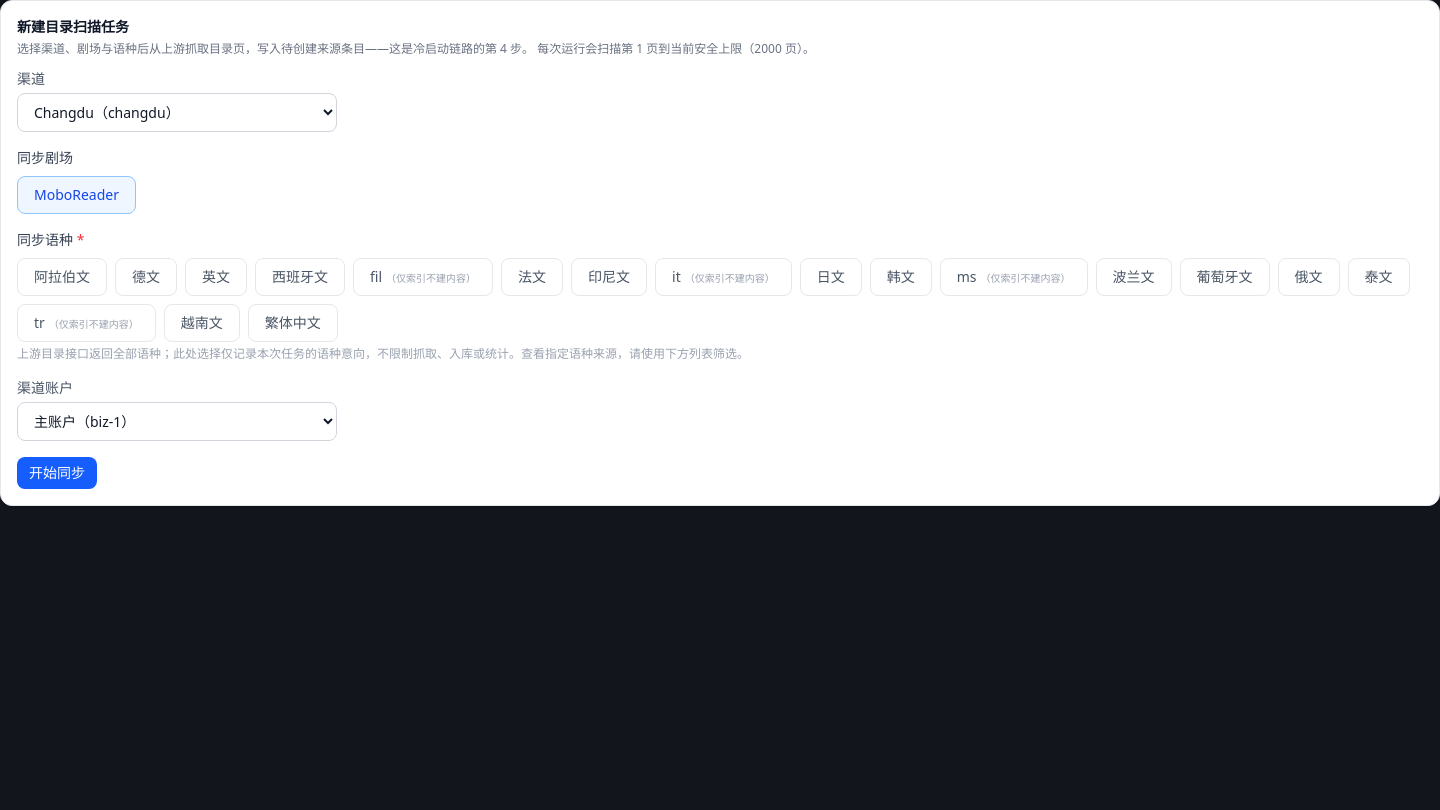
it: 四种结果分支各自独立呈现 › duplicate：幂等提示，不是失败语气
This screenshot has width=1440, height=810.
Click the button "英文". click: x=216, y=277
box: [185,258,247,296]
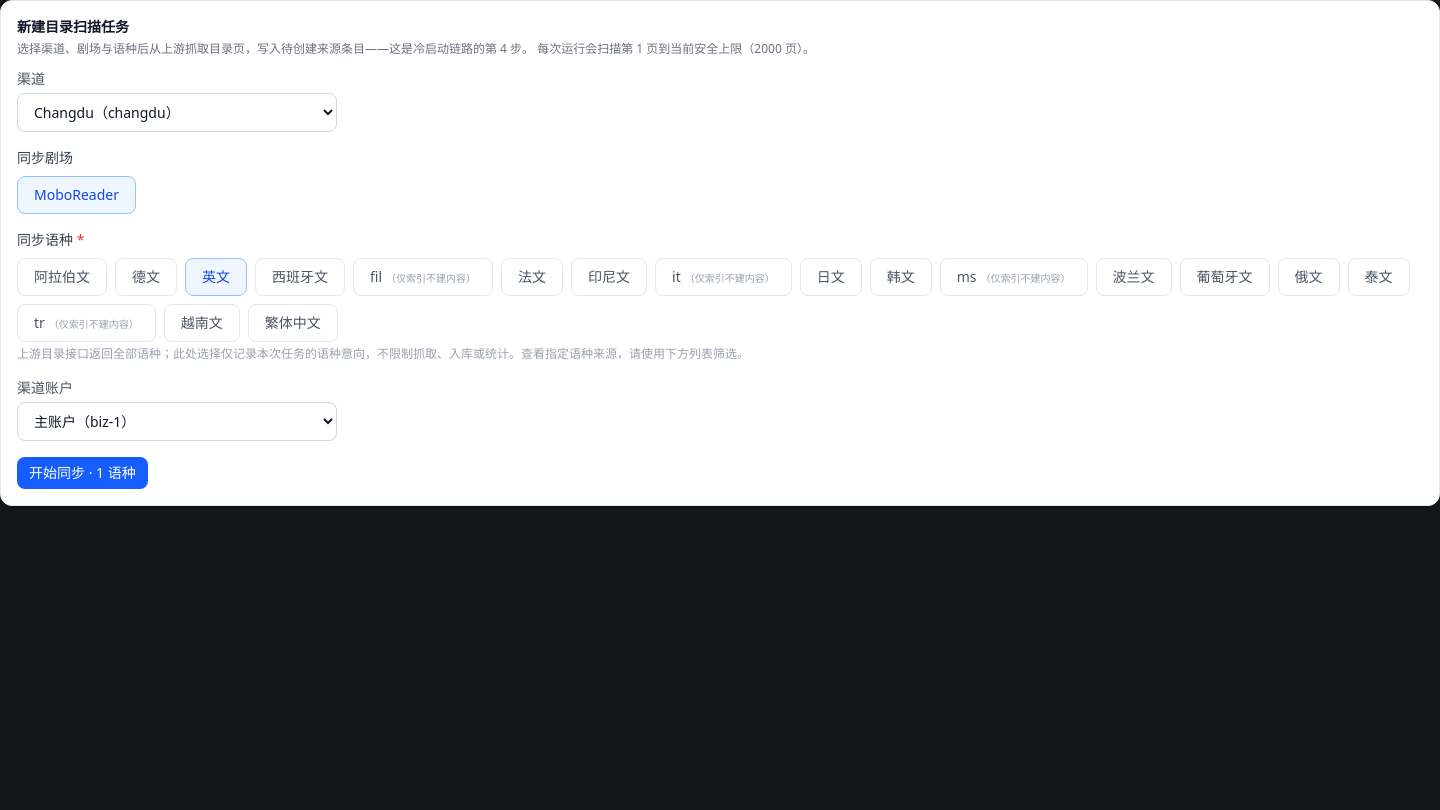
Click the button "开始同步 · 1 语种". click: x=82, y=473
box: [17,457,148,489]
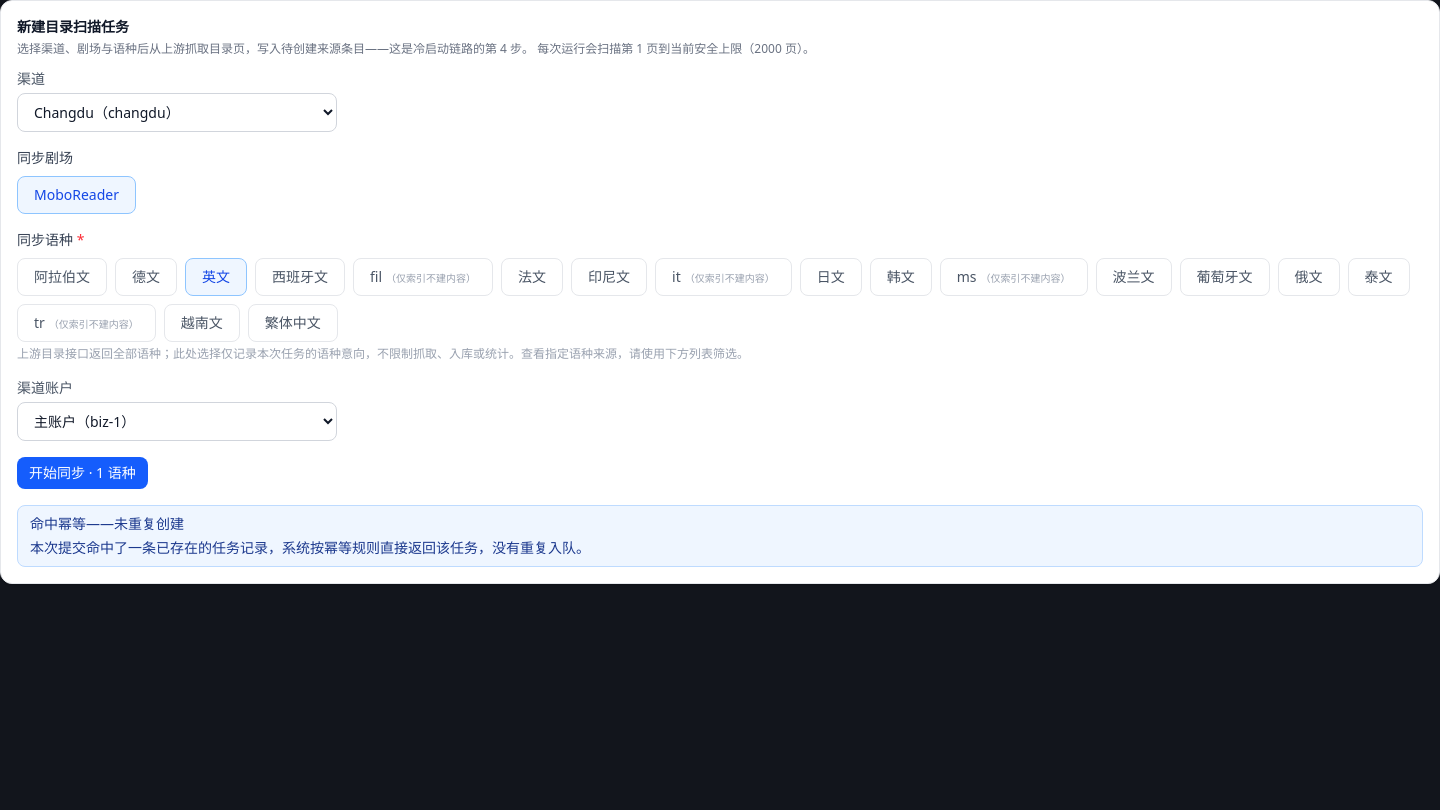
Result: the message with test id "scan-outcome-duplicate" shows "幂等" at [17,505,1423,567]
